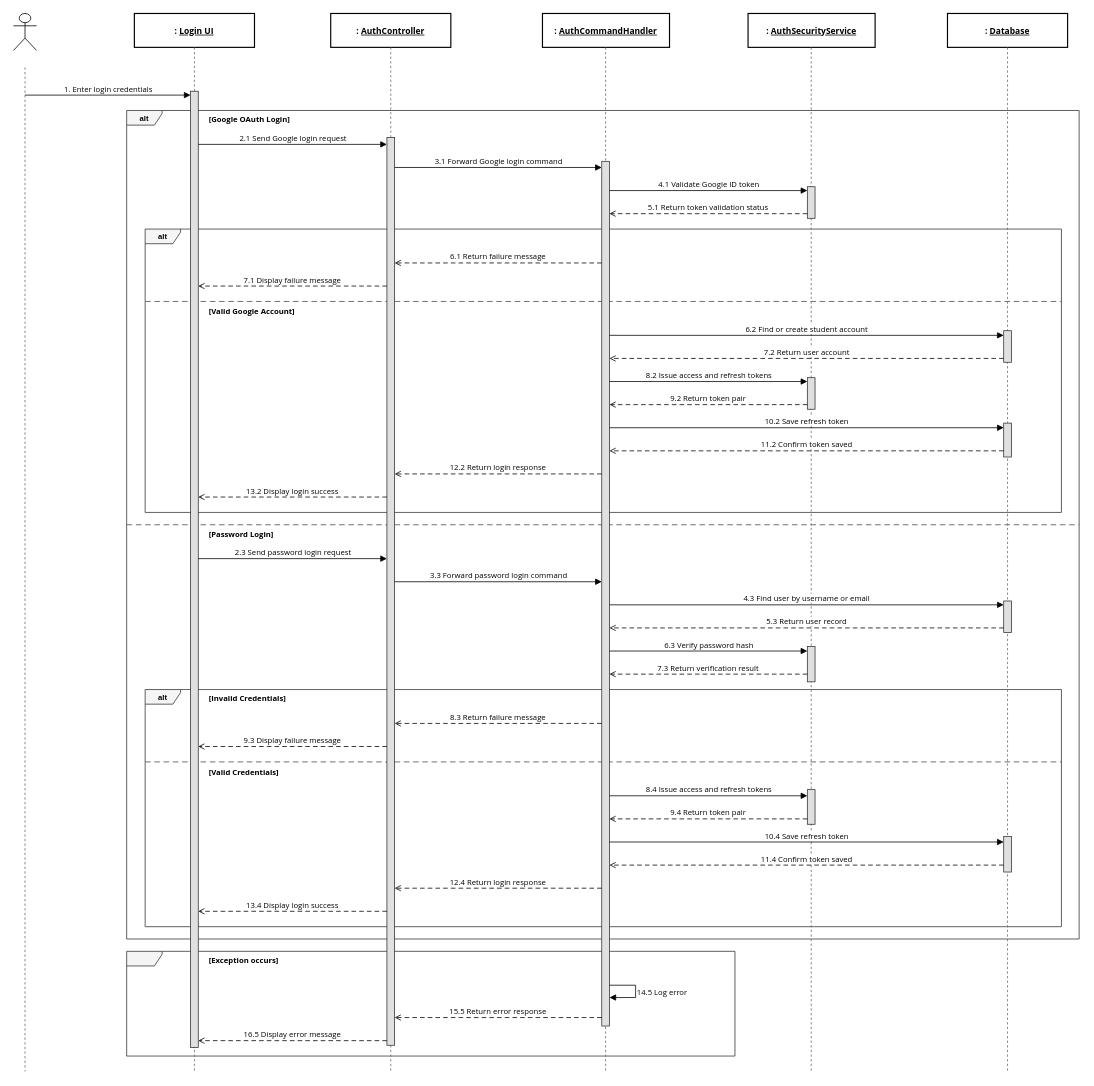
This 1094x1086 diagram has some shape labels left out. The shapes that lost their labels are listed below. From the top down, each one's box as (x1, y1, x2, y2) in pixels, then its label:
(13, 13, 37, 50): User
(206, 230, 338, 243): [Invalid Token or Account Locked]
(126, 951, 735, 1056): opt
